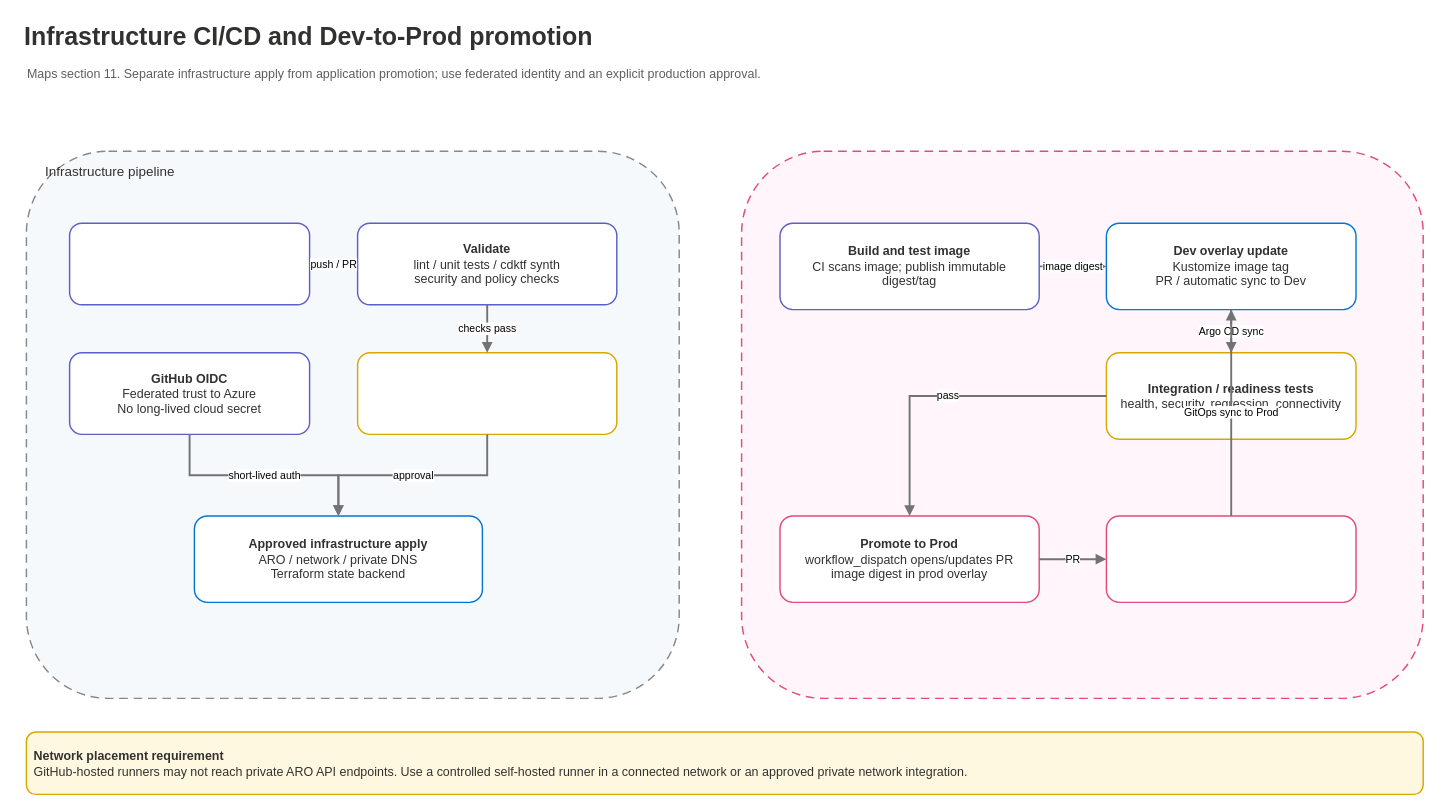
The diagram is 1453 pixels wide and 811 high, and some of its shapes have lost their labels. Each missing label, with the box of its shape:
Application delivery pipeline: (740, 150, 1423, 699)
Plan + review terraform plan / artifact production approval gate: (356, 352, 617, 435)
Pull request / main CDKTF TypeScript + HCL modules: (68, 222, 310, 305)
Review + merge required approvals / release record: (1105, 515, 1356, 603)
